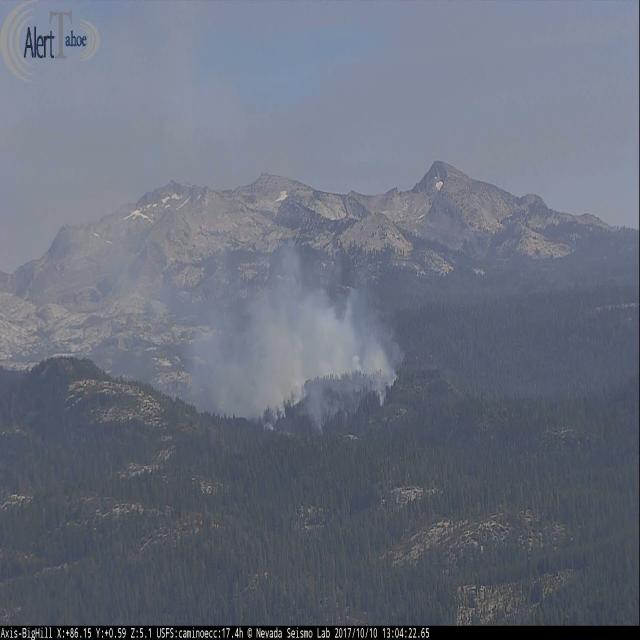smoke: (191, 240, 402, 418)
